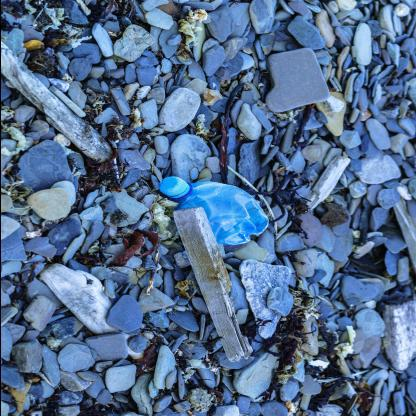plastik: (159, 178, 273, 248)
